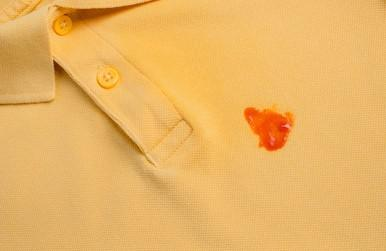gun: (241, 106, 299, 150)
